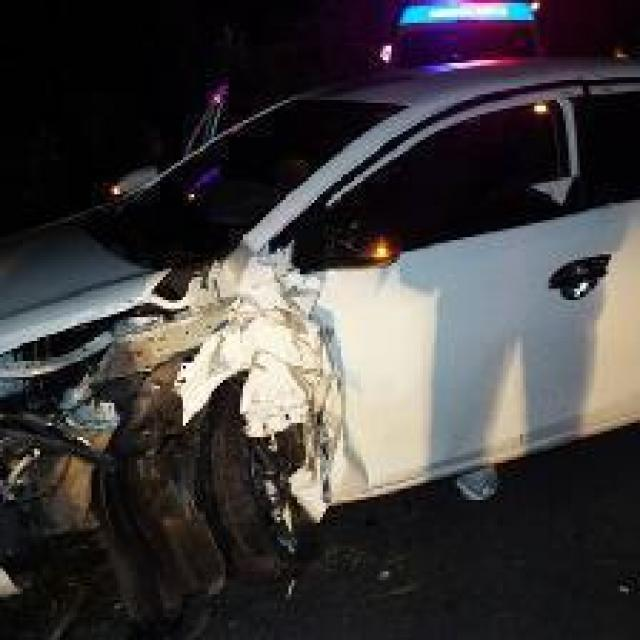damaged: (0, 237, 351, 625)
